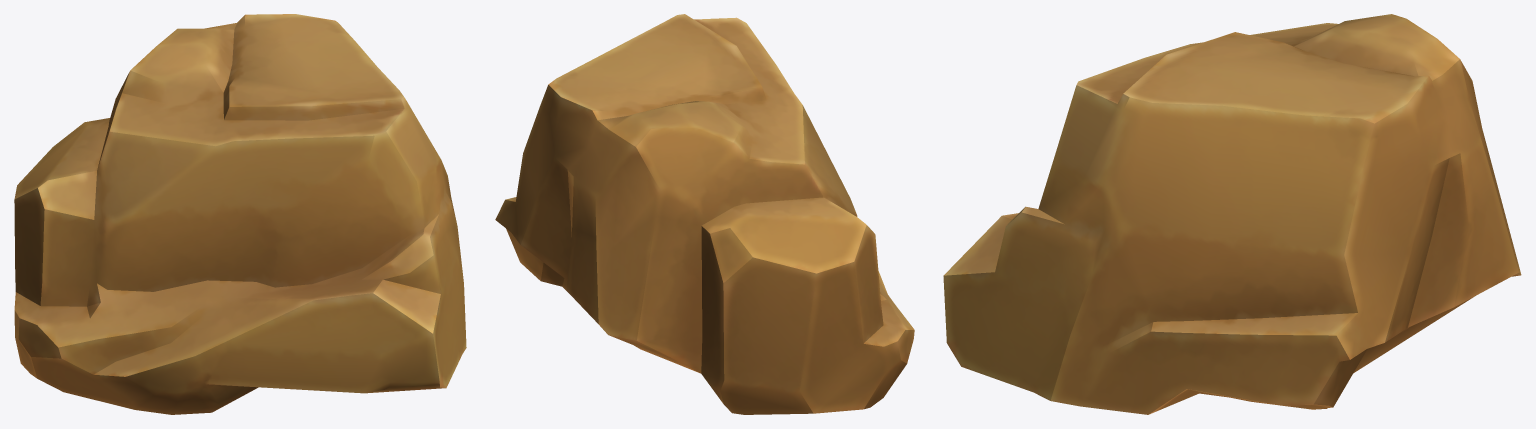
The model's file is rock_desert_3.gltf.
The picture shows the model from 3 angles, left to right: view 1: azimuth 30°, elevation 25°; view 2: azimuth 150°, elevation 25°; view 3: azimuth 270°, elevation 25°; orthographic projection. The views are drawn at different scales.
Visible parts, largest first — view 1: rock_desert_3; view 2: rock_desert_3; view 3: rock_desert_3.
Part boxes in pixels (x1,y1,x2,y2): rock_desert_3: (14, 14, 466, 414); rock_desert_3: (495, 14, 914, 414); rock_desert_3: (943, 14, 1521, 414).
Size of the model in its own units: 3.42 by 2.32 by 3.48.
Materials: 1 (1 with a texture image).
